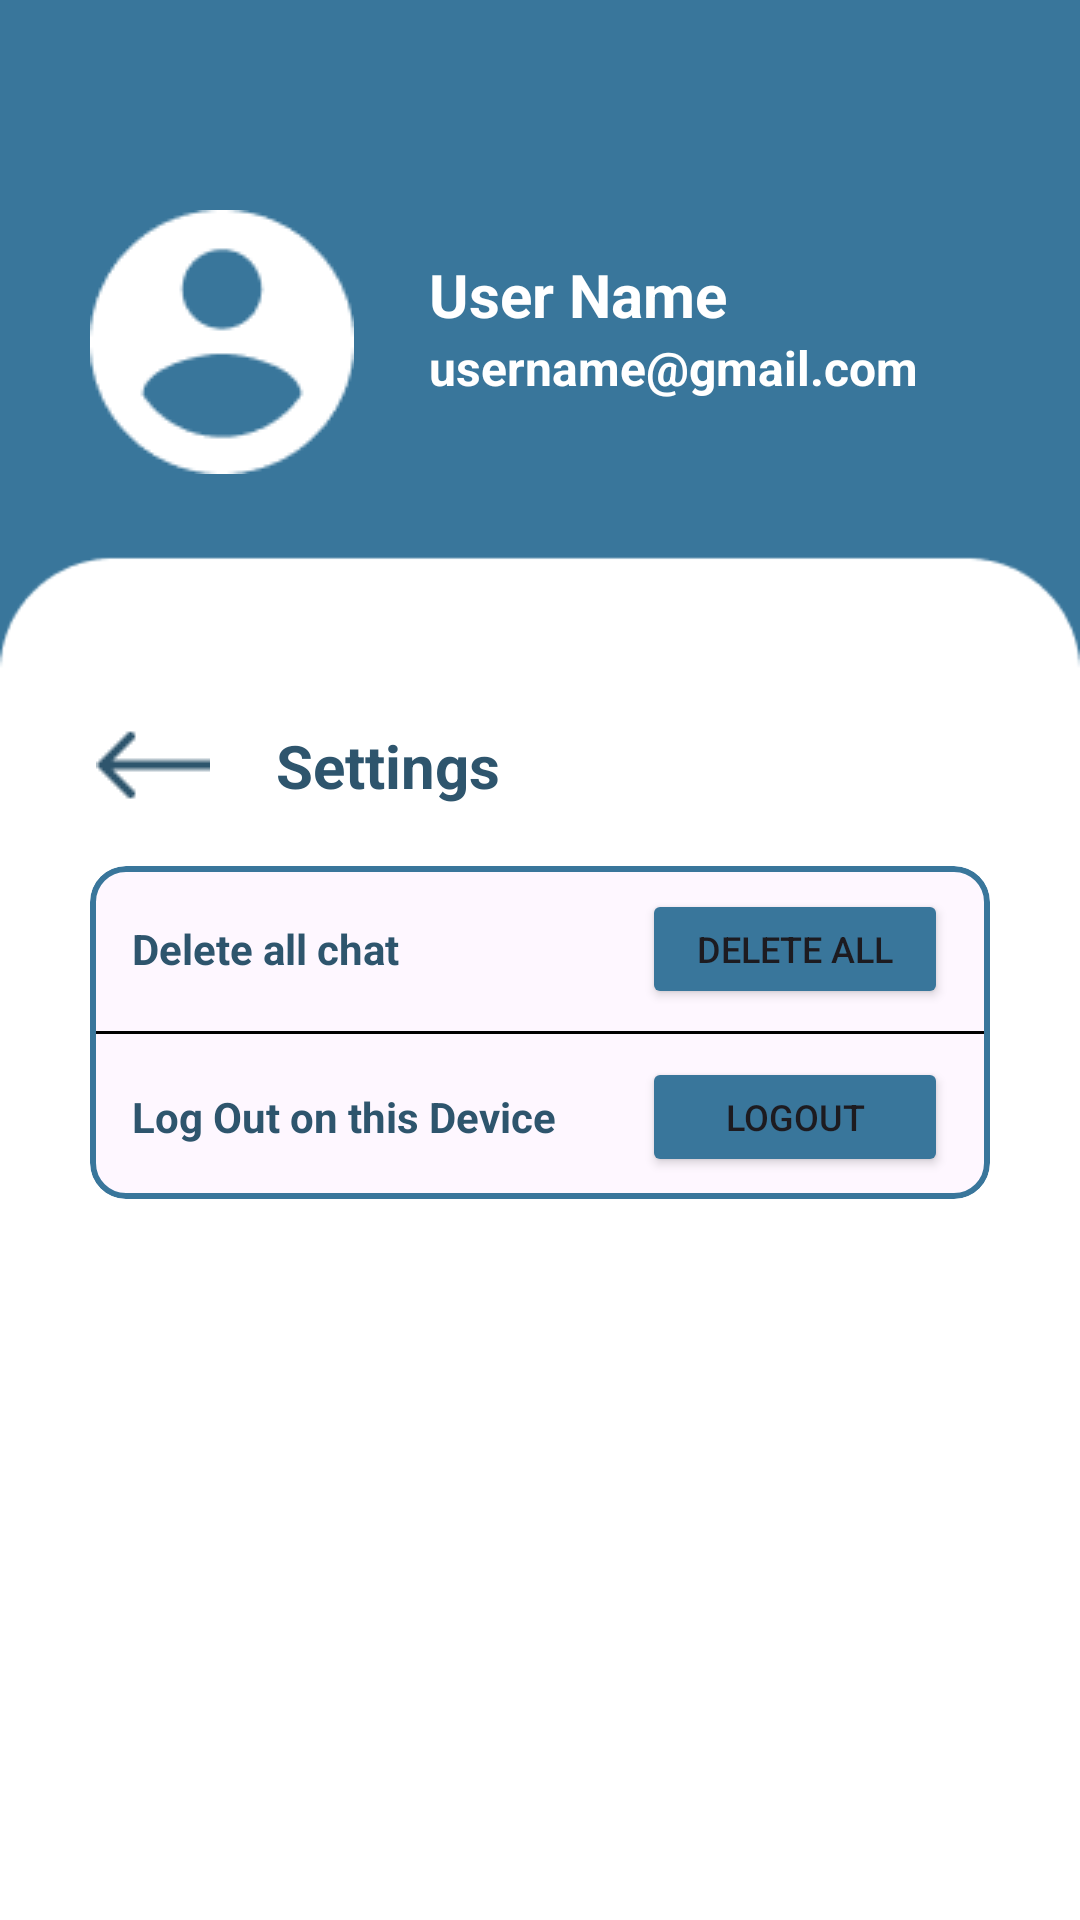

Where icons sit on this 1080w x 1920h app screen, as [x1=x1, y1=y1, x2=x2, y2=y2]:
Back: [x1=96, y1=731, x2=210, y2=799]
Profil Picture: [x1=90, y1=210, x2=354, y2=474]
